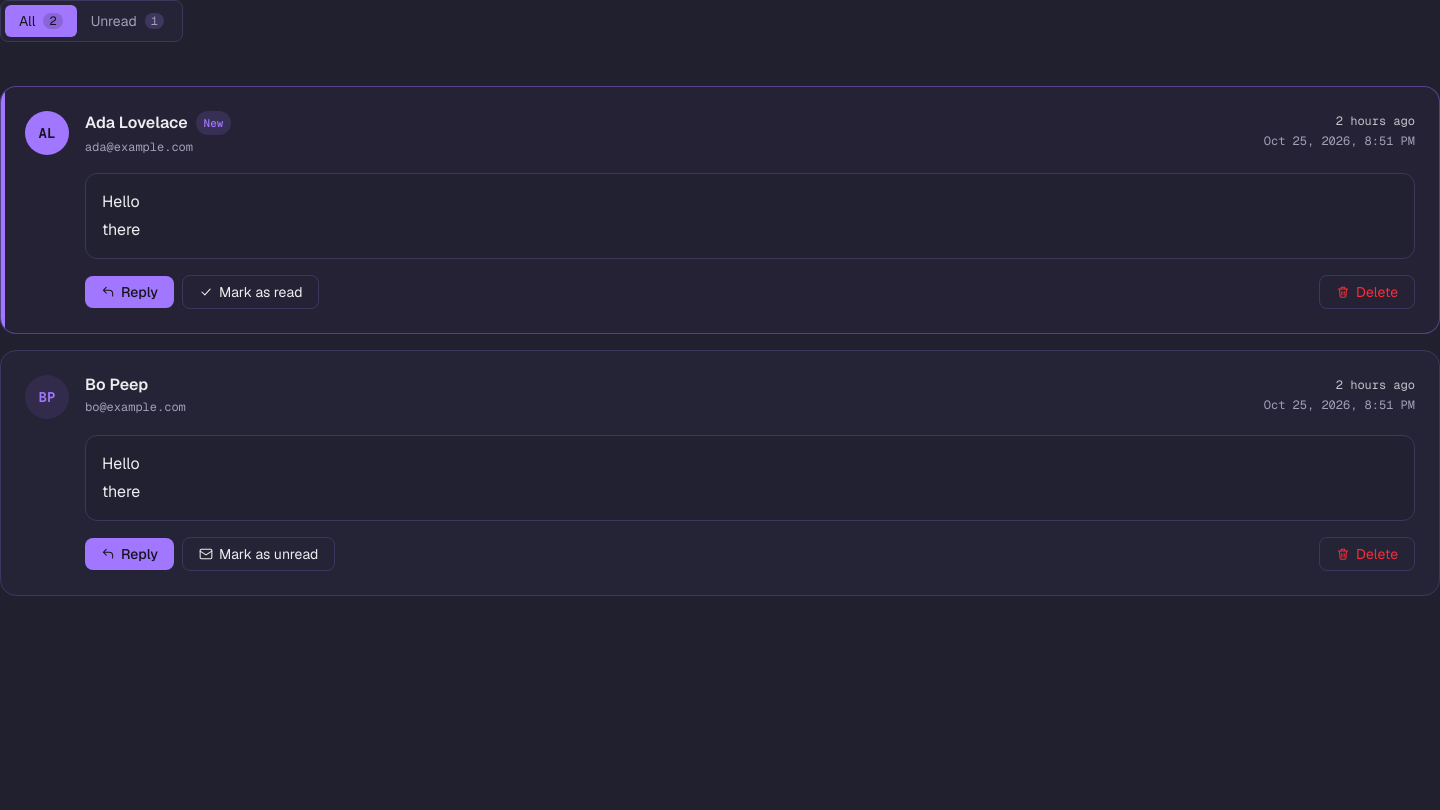
Scenario: MessageList › filters to the unread messages and keeps the counts
This screenshot has width=1440, height=810.
Check: the button "All 2" is shown, box 5,5 -> 77,37
Click the button "Unread 1" at {"x": 127, "y": 21}, box 77,5 -> 178,37
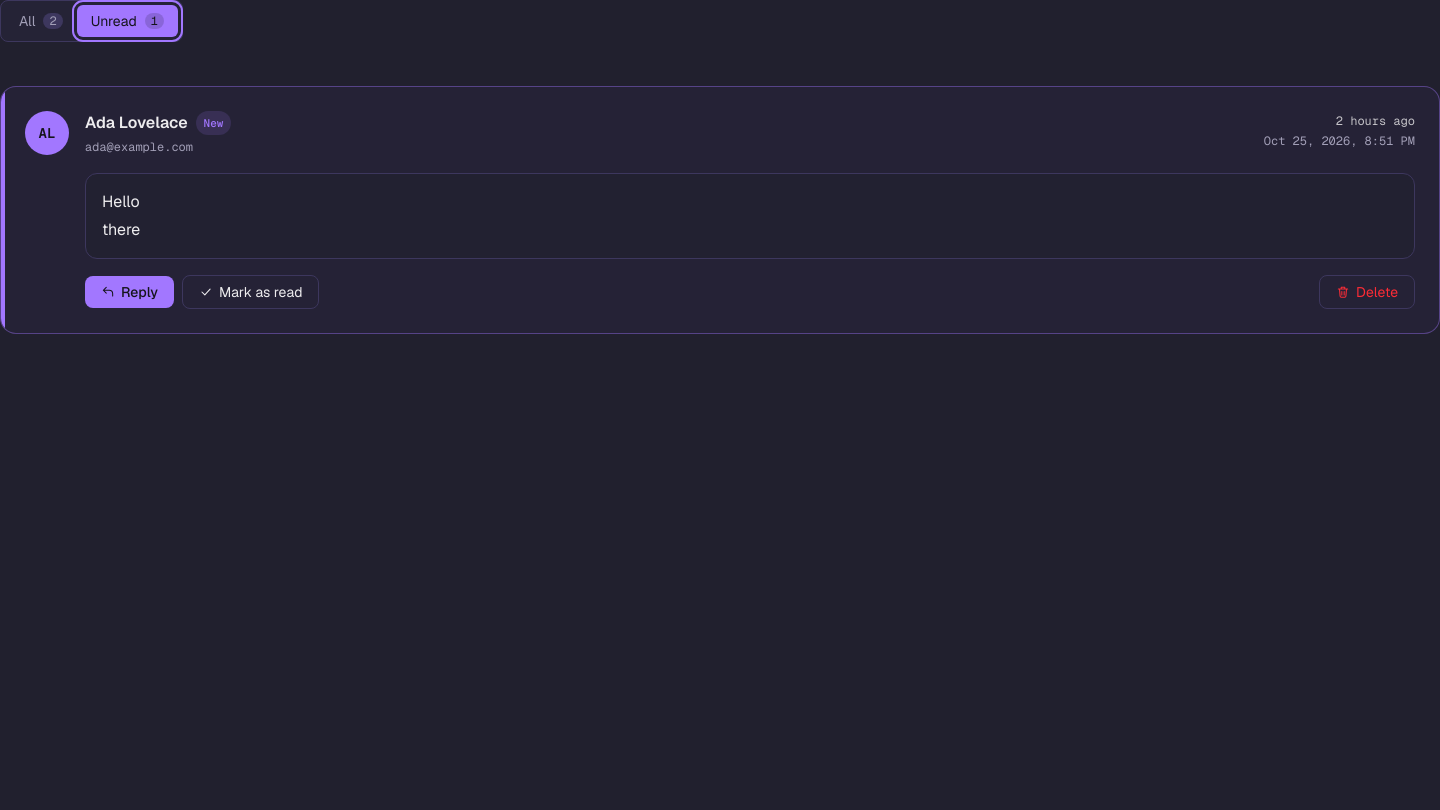
Check: the text "Ada Lovelace" is shown, box 85,113 -> 188,133
Check: the number of list items is 1, box 0,86 -> 1439,334
